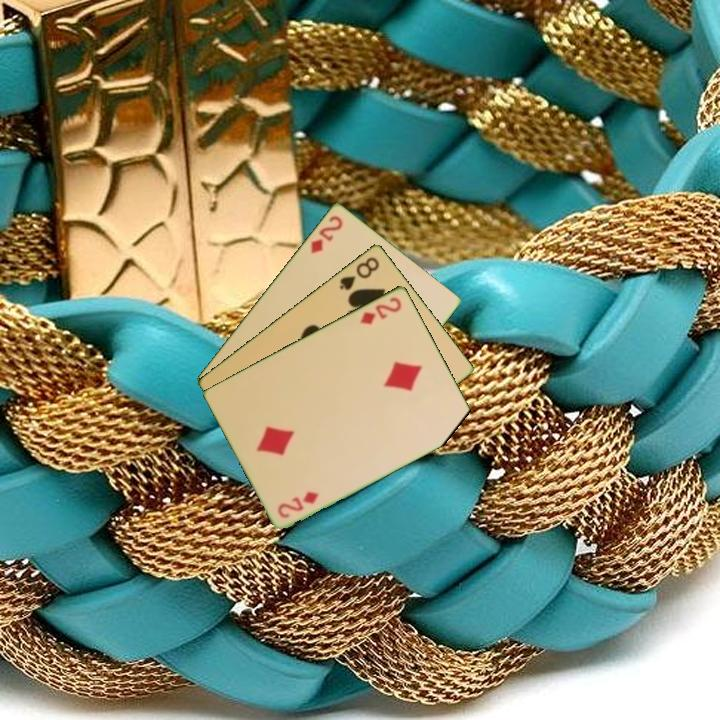2d: (307, 211, 346, 256), (356, 293, 404, 327), (274, 487, 322, 521)
8s: (336, 253, 382, 293)
